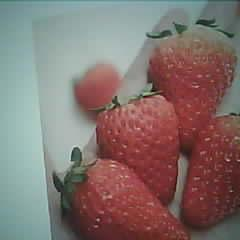straw-ripe: (150, 26, 237, 146), (73, 158, 189, 240), (97, 96, 181, 201), (183, 113, 240, 227)
